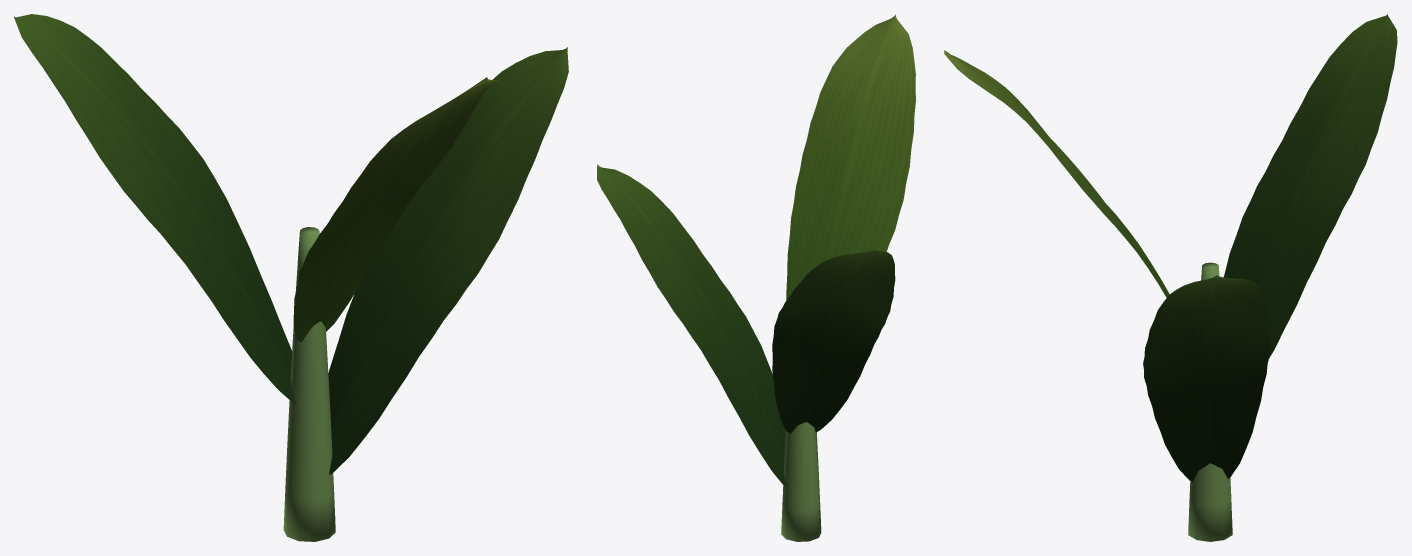
File: tulip-02.glb
3 renders of one model, left to right at view 1: azimuth 30°, elevation 25°; view 2: azimuth 150°, elevation 25°; view 3: azimuth 270°, elevation 25°, orthographic. The views are drawn at different scales.
Parts seen in each view (by area): view 1: tulip_stage_02_leaf_veins.002, tulip_stage_02_young_leaf.002, tulip_stage_02_stem_fibres.002; view 2: tulip_stage_02_leaf_veins.002, tulip_stage_02_young_leaf.002, tulip_stage_02_stem_fibres.002; view 3: tulip_stage_02_leaf_veins.002, tulip_stage_02_stem_fibres.002, tulip_stage_02_young_leaf.002.
Part boxes in pixels (x1,y1,x2,y2): tulip_stage_02_leaf_veins.002: (14,14,568,474); tulip_stage_02_young_leaf.002: (293,77,499,342); tulip_stage_02_stem_fibres.002: (283,227,335,541); tulip_stage_02_leaf_veins.002: (597,164,895,486); tulip_stage_02_young_leaf.002: (786,14,915,299); tulip_stage_02_stem_fibres.002: (781,422,821,541); tulip_stage_02_leaf_veins.002: (1143,14,1397,481); tulip_stage_02_stem_fibres.002: (1188,262,1232,541); tulip_stage_02_young_leaf.002: (944,50,1169,297).
Size of the model in its own units: 0.0812 by 0.0938 by 0.0779.
Materials: 3 (2 with a texture image).
